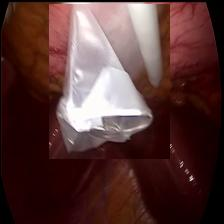Specimen Bag: (48, 3, 168, 158)
